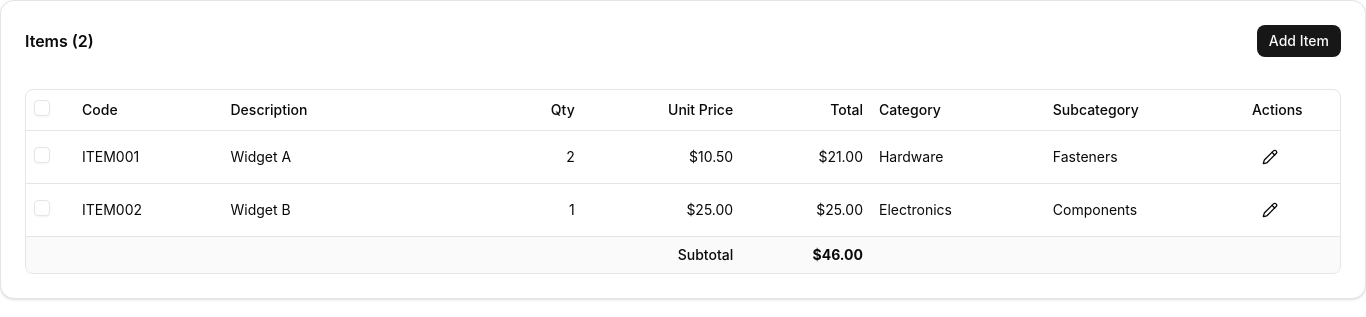
Scenario: ReceiptItemsCard › shows Delete button with count when items are selected
Check: the button "delete" is not shown
What coordinates should you click on to do the following:
click the checkbox named "Select Widget A item"
I would click on:
 (42, 154)
Its box is x1=34 y1=146 x2=50 y2=162.
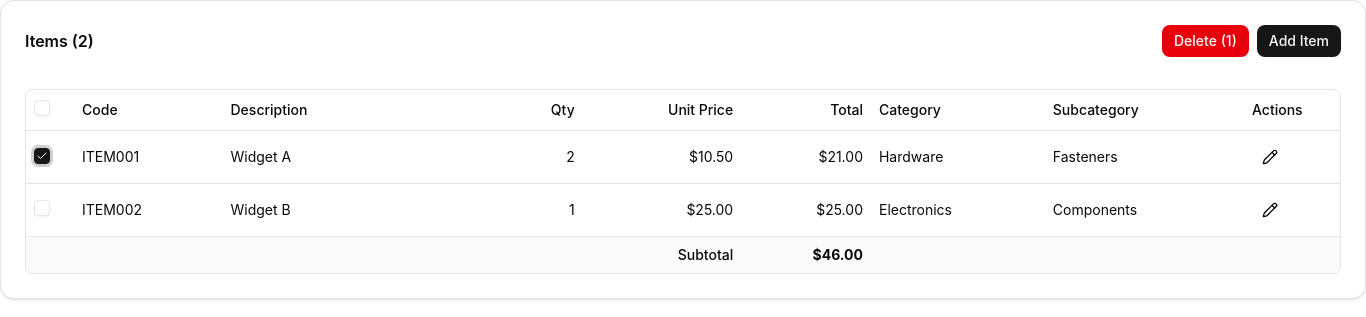
Check: the button "Delete (1)" is shown, box x1=1162 y1=25 x2=1249 y2=57
